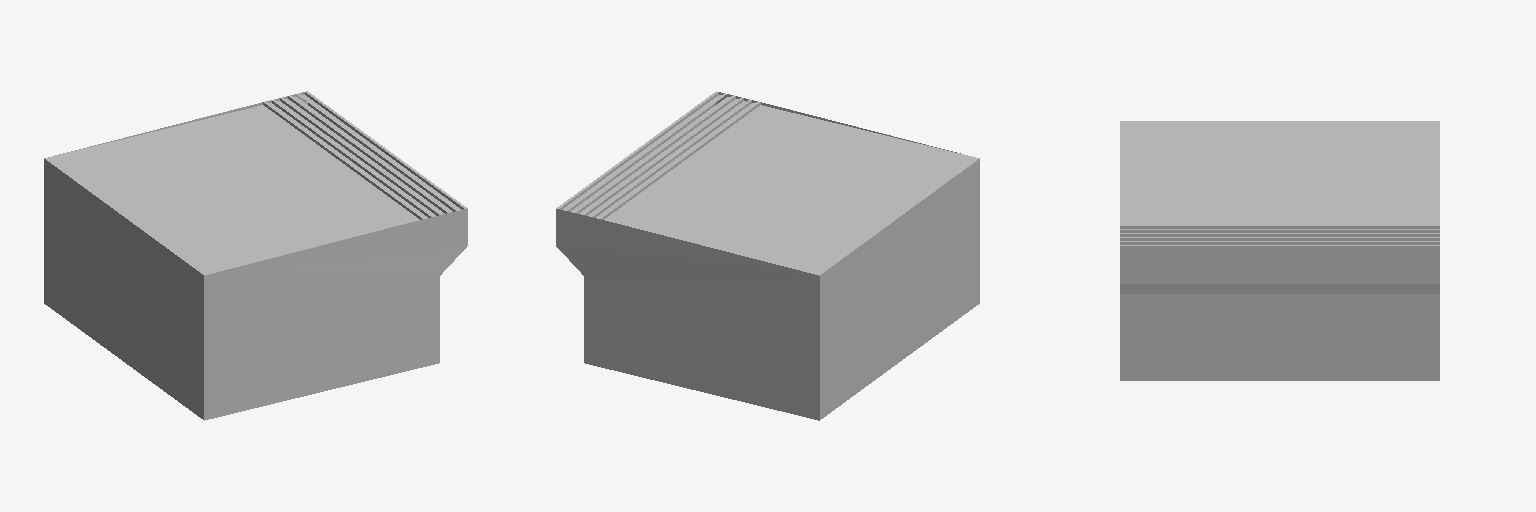
File: block_platform_small_normal.obj
3 renders of one model, left to right at view 1: azimuth 30°, elevation 25°; view 2: azimuth 150°, elevation 25°; view 3: azimuth 270°, elevation 25°, orthographic.
Visible parts, largest first — view 1: Cube; view 2: Cube; view 3: Cube.
Part boxes in pixels (bbox=[...]): Cube: bbox=[44, 91, 467, 420]; Cube: bbox=[556, 91, 979, 420]; Cube: bbox=[1120, 121, 1439, 380].
Bounding box in the file's own units: 0.95 × 0.51 × 1.